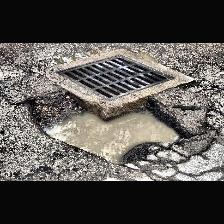pothole: (24, 89, 192, 165)
